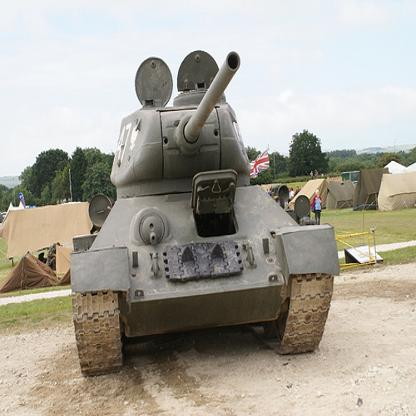Tank: (65, 49, 342, 373)
